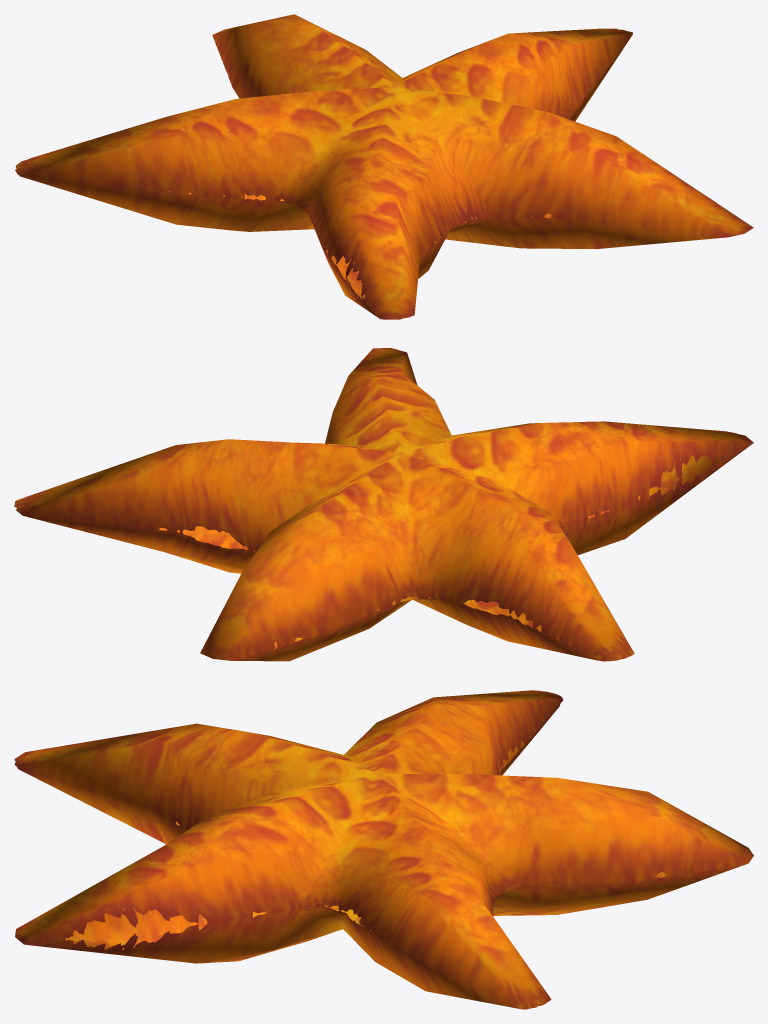
File: starfish_3.fbx
3 renders of one model, top to bottom at view 1: azimuth 30°, elevation 25°; view 2: azimuth 150°, elevation 25°; view 3: azimuth 270°, elevation 25°, orthographic. The views are drawn at different scales.
Parts seen in each view (by area): view 1: starfish_3; view 2: starfish_3; view 3: starfish_3.
Boxes of the visible parts, x1=… form: starfish_3: x1=15, y1=14, x2=753, y2=319; starfish_3: x1=14, y1=348, x2=753, y2=661; starfish_3: x1=14, y1=690, x2=753, y2=1009.
Bounding box in the file's own units: 13.58 × 2.96 × 13.39.
